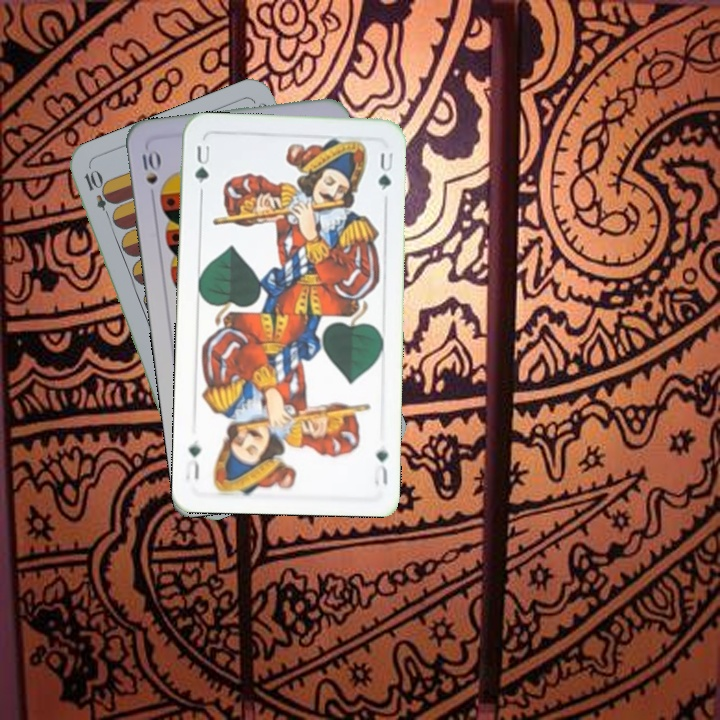E10: (80, 166, 116, 223)
GU: (191, 141, 214, 186), (370, 445, 390, 489)
S10: (137, 145, 162, 203)
